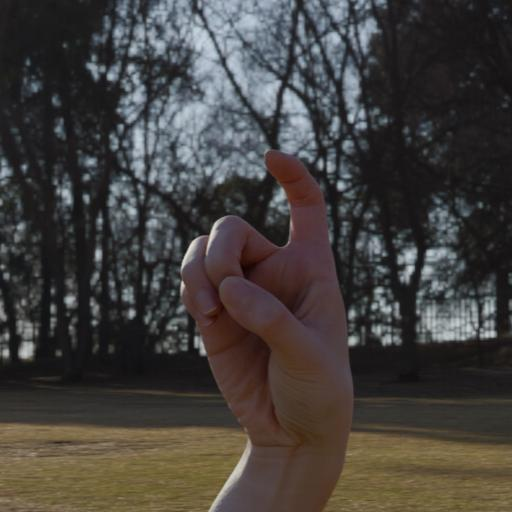X: (155, 143, 363, 512)
